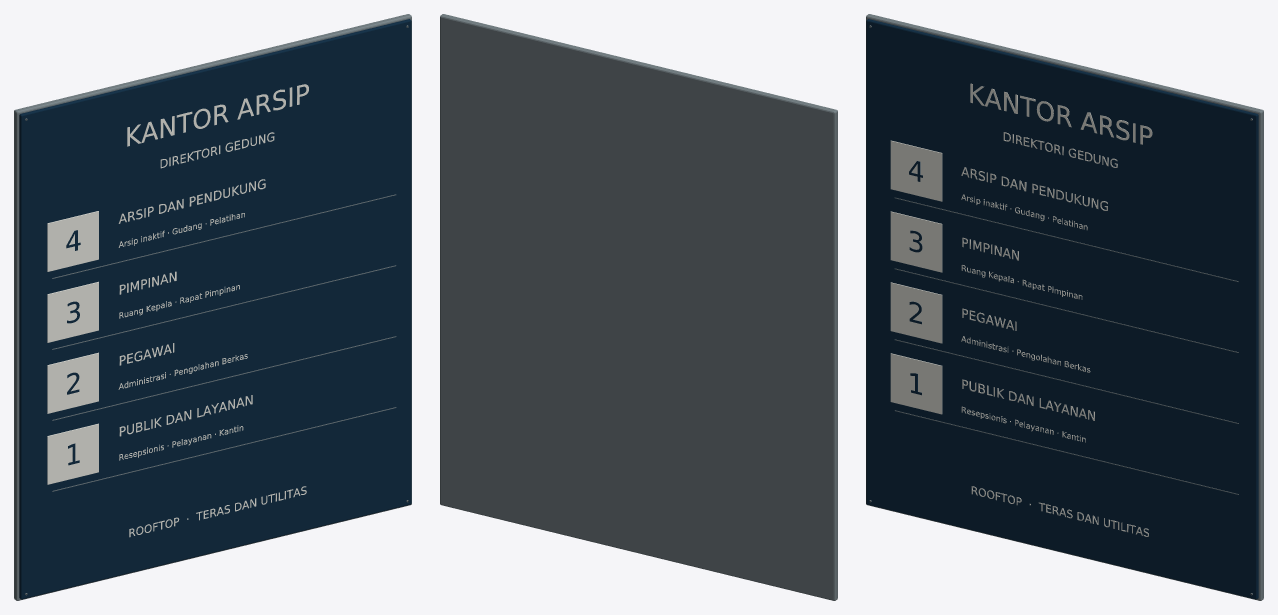
Rendered from OAA_Papan_Direktori_Gedung.fbx.
The picture shows the model from 3 angles, left to right: view 1: azimuth 30°, elevation 25°; view 2: azimuth 150°, elevation 25°; view 3: azimuth 330°, elevation 25°; orthographic projection.
Parts seen in each view (by area): view 1: Body; view 2: Body; view 3: Body.
Boxes of the visible parts, x1,y1,x2,y2 form: Body: [14, 14, 411, 600]; Body: [440, 14, 837, 600]; Body: [866, 14, 1263, 600].
Size of the model in its own units: 1.15 by 1.36 by 0.0335.
